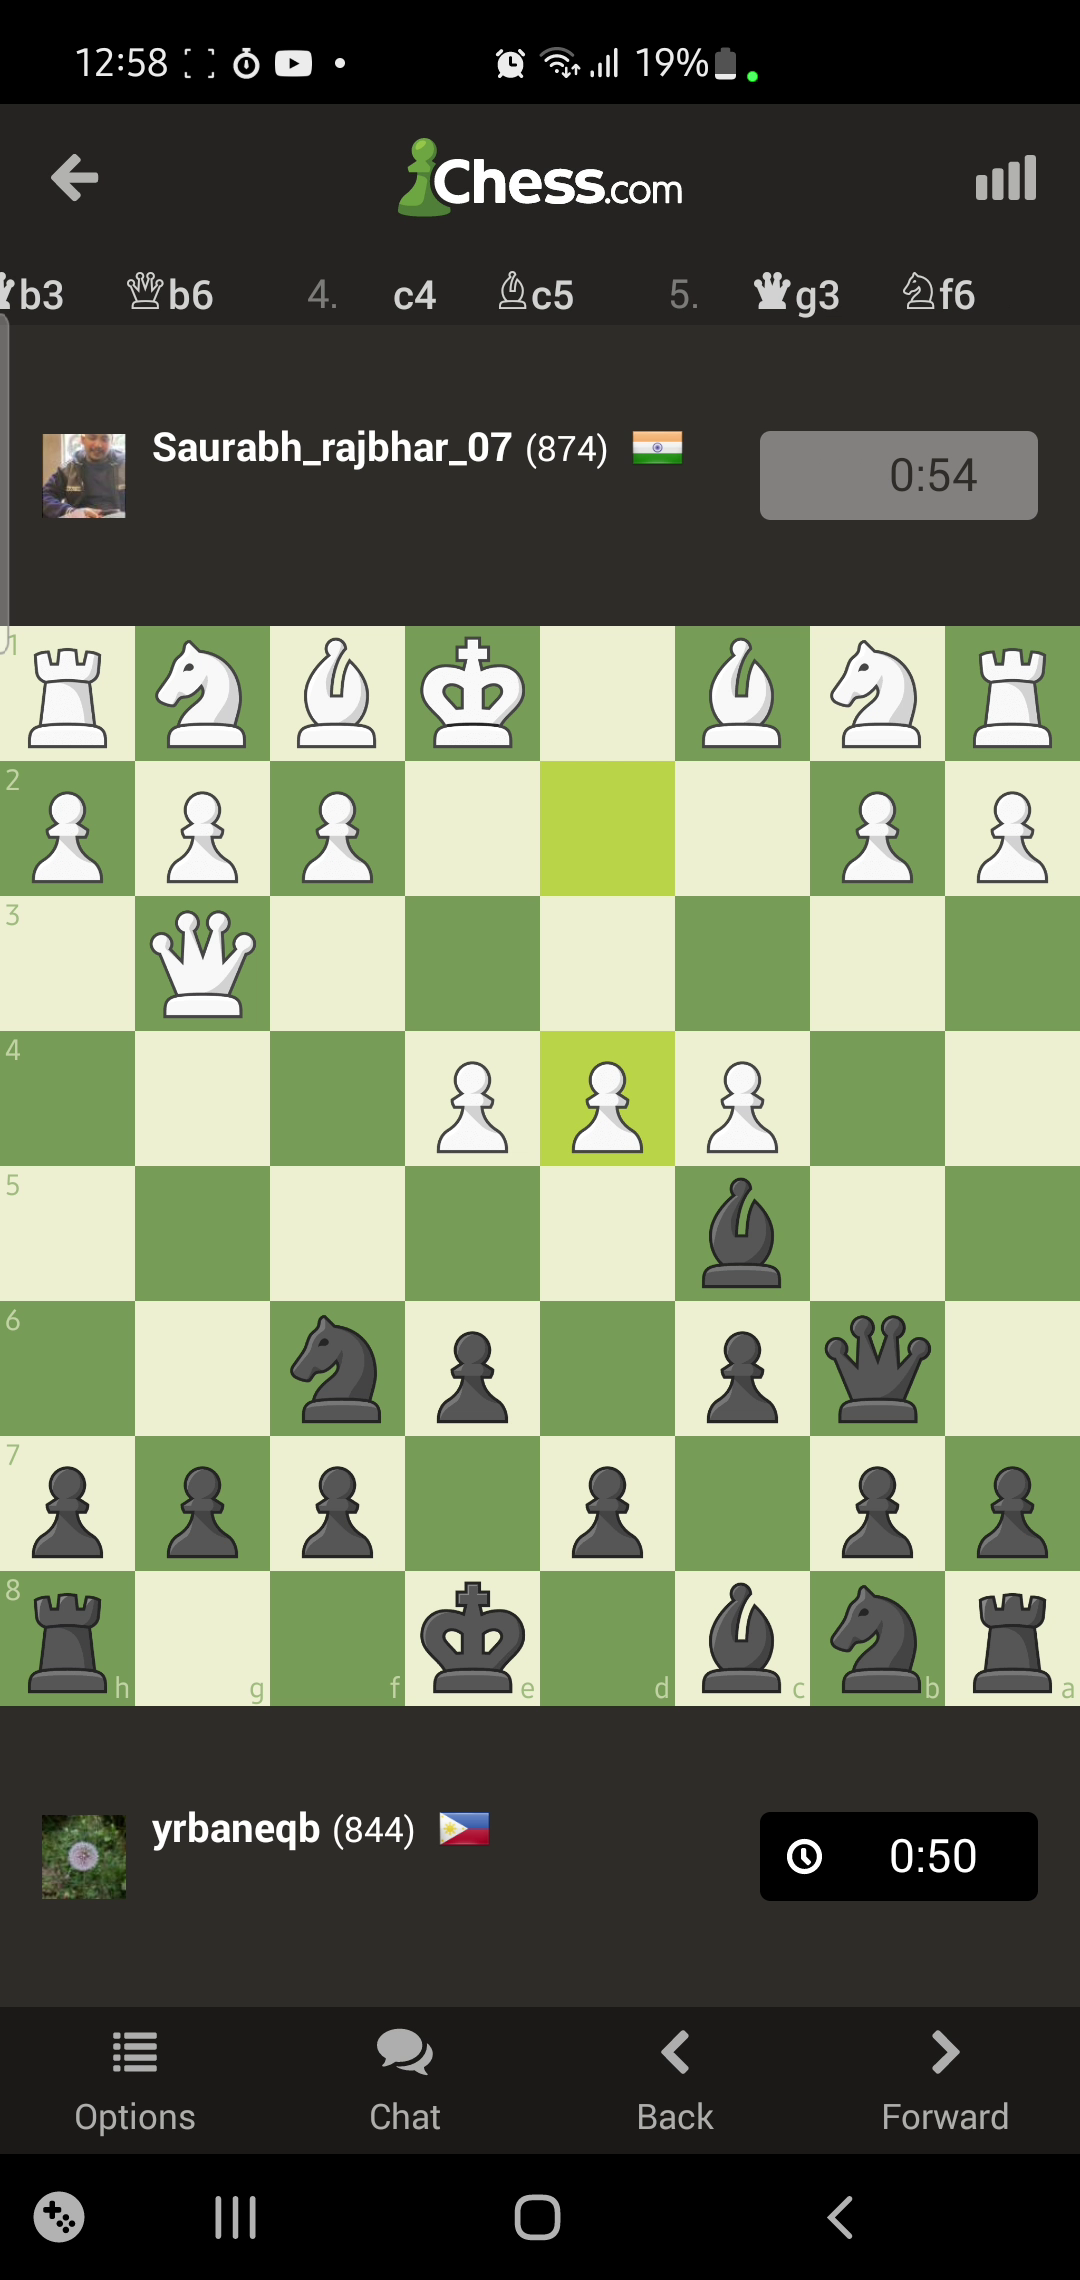king: (420, 1581, 528, 1693), (420, 638, 517, 750)
